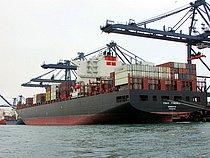Ship: (14, 38, 210, 128)
